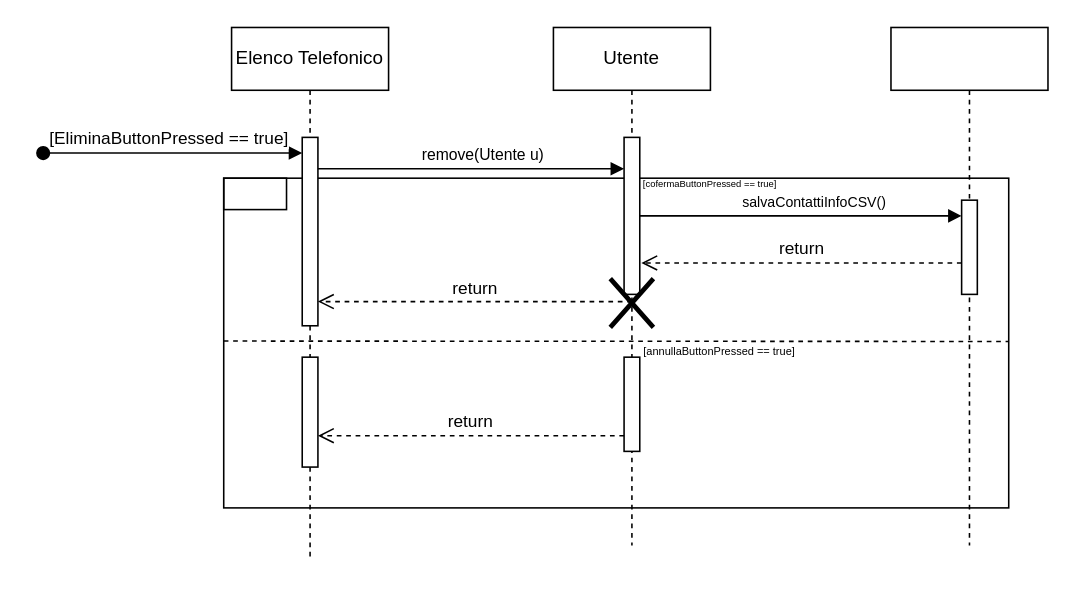
Image size: 1075x589. Some labels were removed from this diagram. Each missing label, with the centre of its shape:
"alt" belongs at [254,193].
"GestioneFileEsternoContatti" belongs at [968,286].
